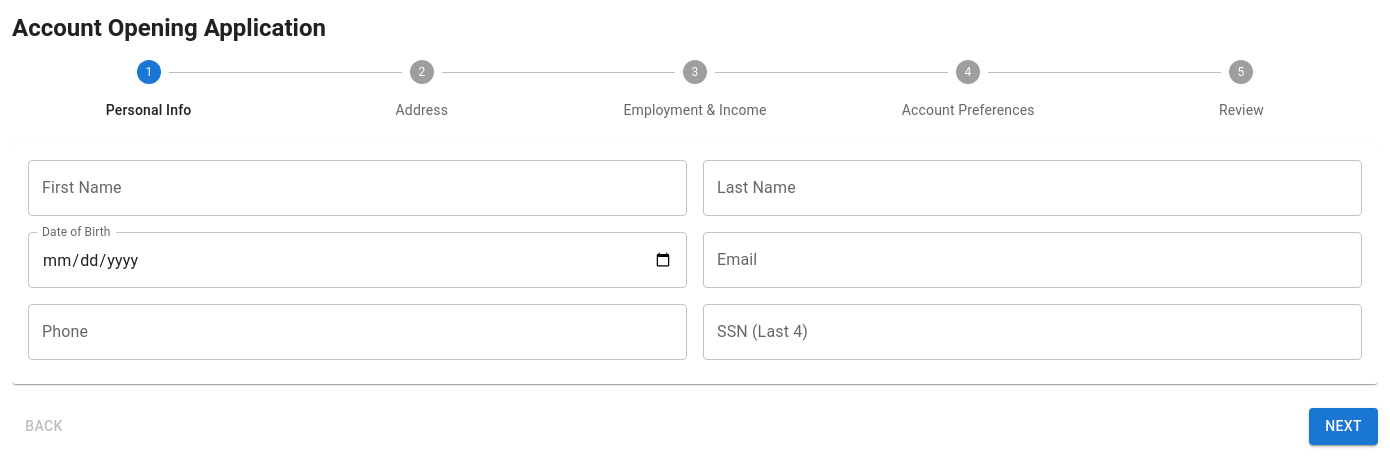
Test: ApplicationForm › Step navigation › can navigate back from step 2 to step 1
In the field labelled "First Name": (358, 188) [28,160,687,216], type "Jane"
In the field labelled "Last Name": (1032, 188) [703,160,1362,216], type "Doe"
In the date field labelled "Date of Birth": (358, 260) [28,232,687,288], type "1990-01-15"
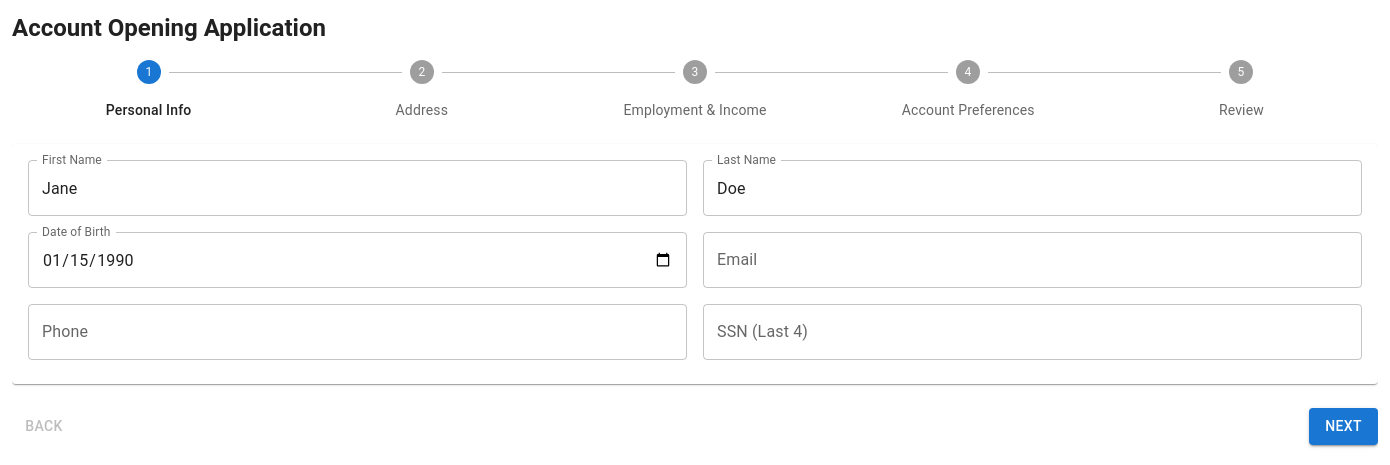
In the field labelled "Email": (1032, 260) [703,232,1362,288], type "jane@example.com"
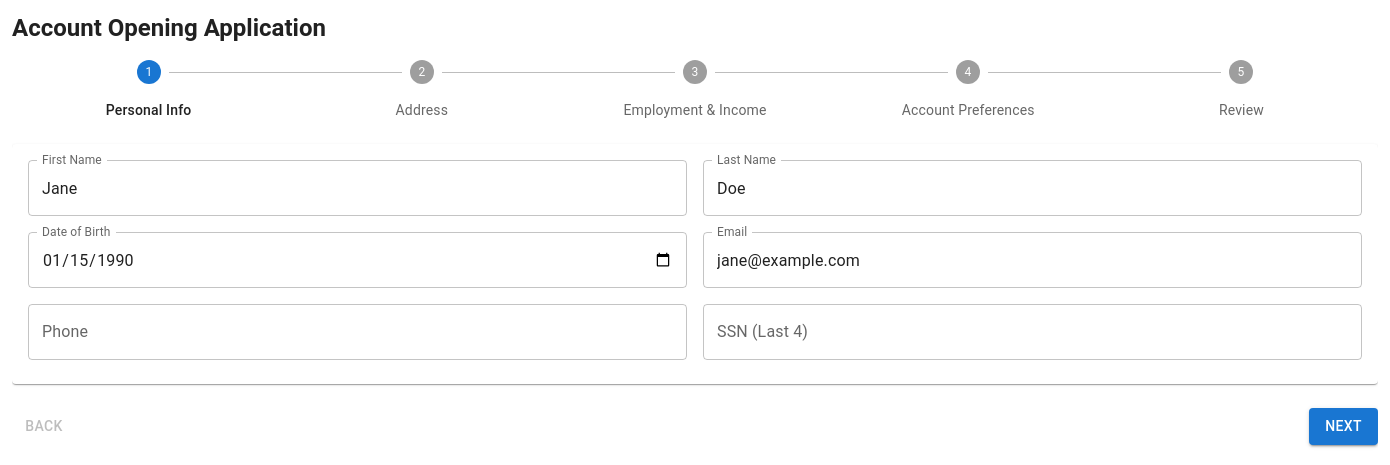
In the field labelled "Phone": (358, 332) [28,304,687,360], type "555-0100"
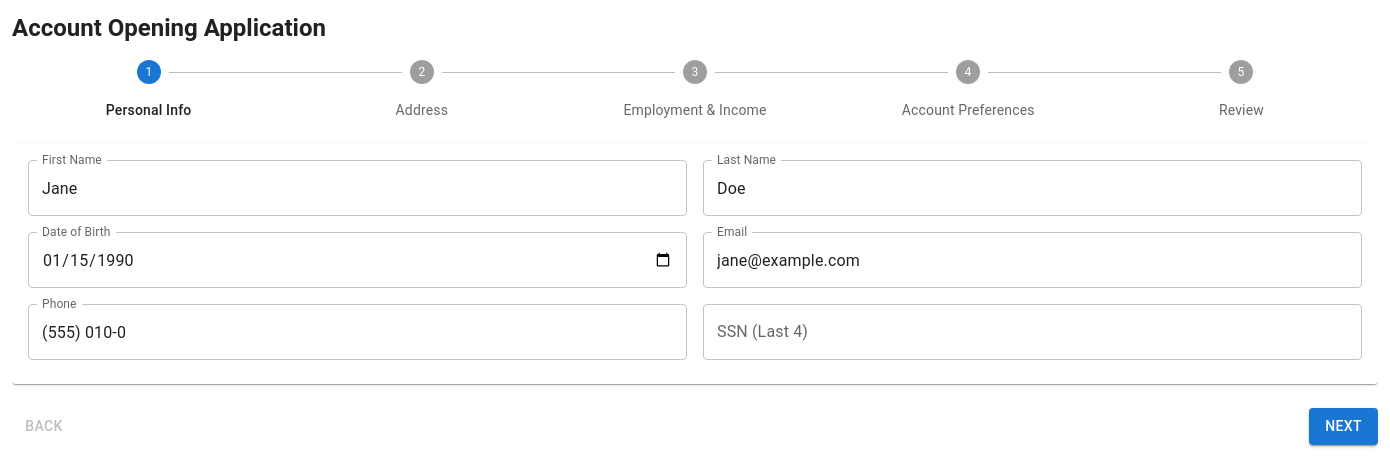
In the field labelled "SSN (Last 4)": (1032, 332) [703,304,1362,360], type "1234"
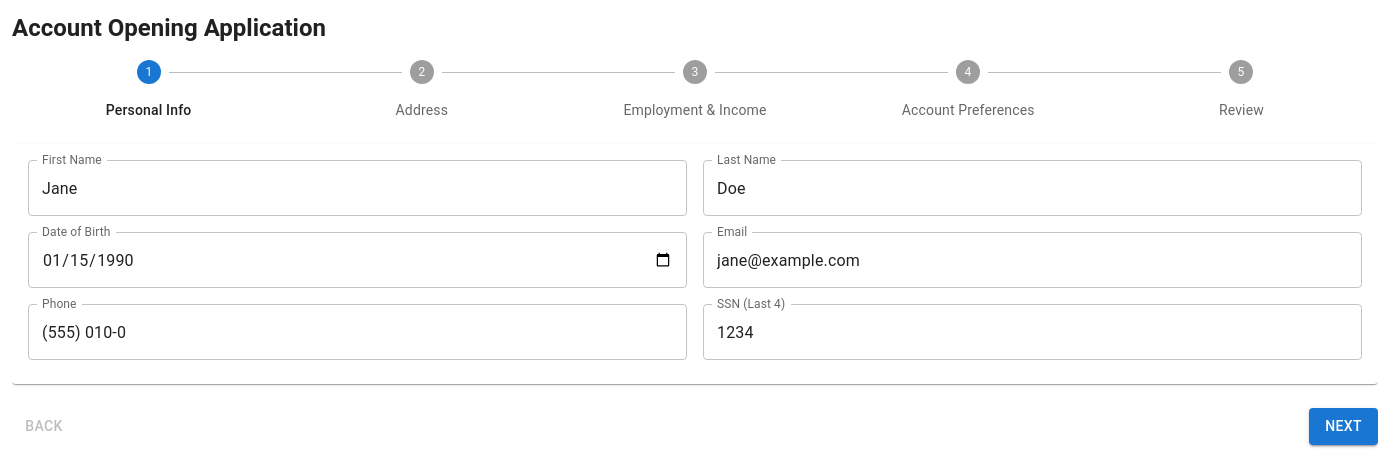
Click the button "Next": (1344, 426) [1309,408,1378,444]
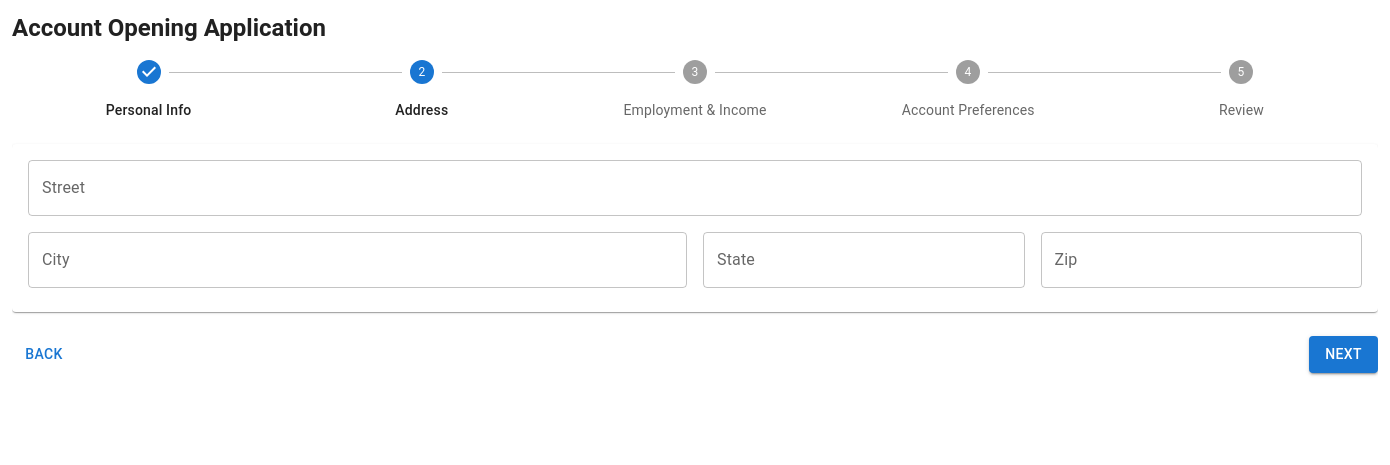
expect the field labelled "Street" is shown: met, box [28,160,1362,216]
Click the button "Back": (44, 354) [12,336,76,372]
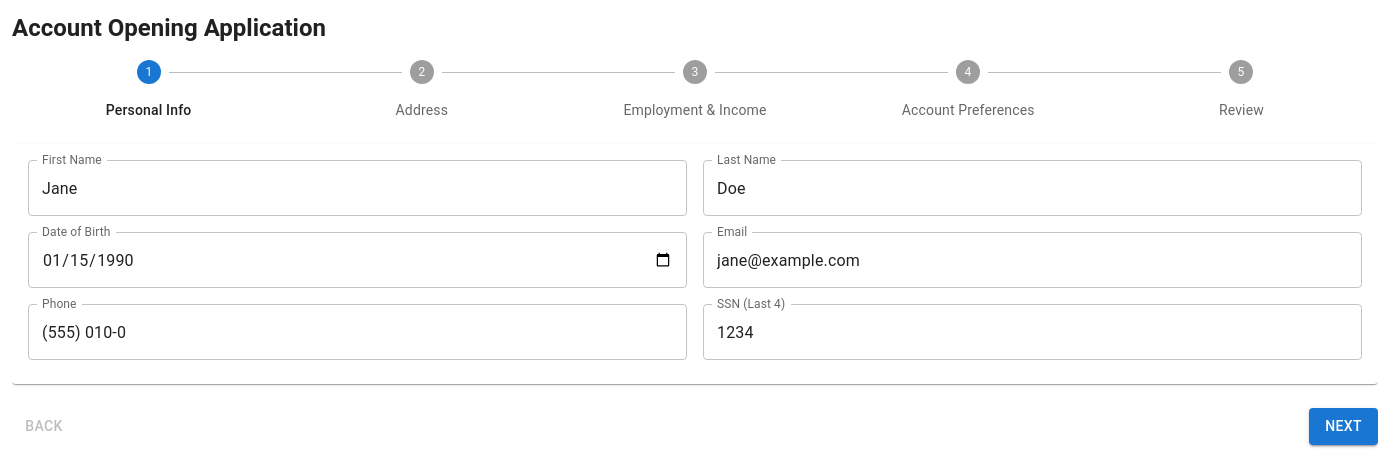
expect the field labelled "First Name" is shown: met, box [28,160,687,216]
